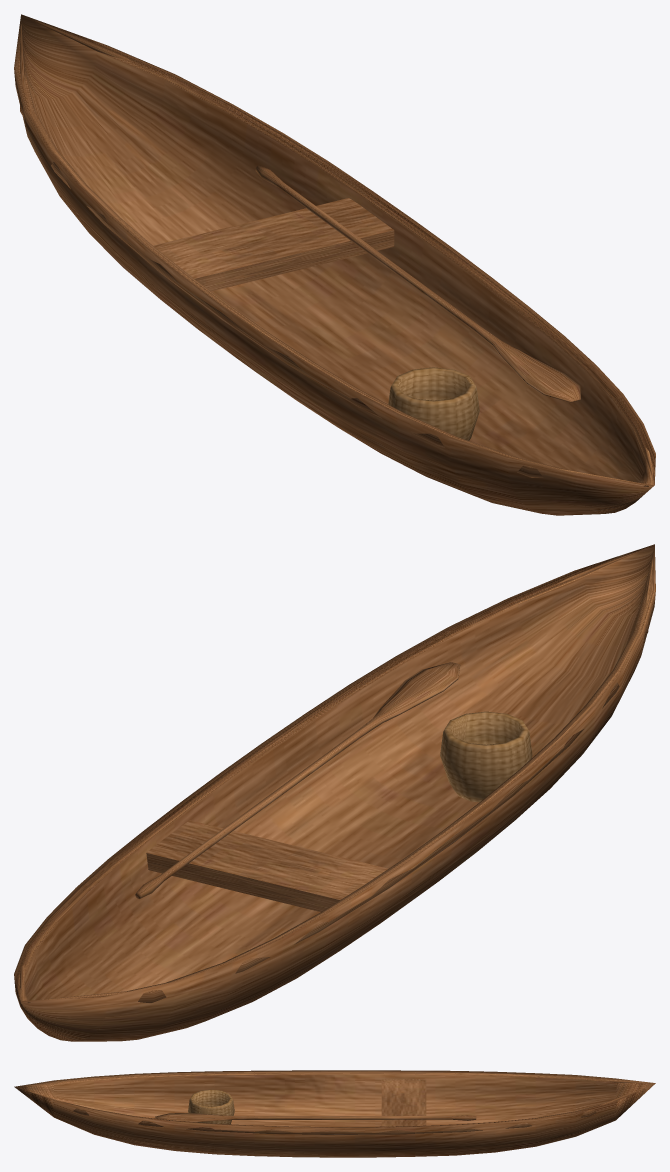
Rendered from MONTRA-ayutthaya-dugout-LOD1.glb.
3 renders of one model, top to bottom at view 1: azimuth 30°, elevation 25°; view 2: azimuth 150°, elevation 25°; view 3: azimuth 270°, elevation 25°, orthographic. The views are drawn at different scales.
Parts seen in each view (by area): view 1: Dugout_Hull, Rowers_Thwart, Single_Blade_Paddle, Woven_Fishing_Basket, Gunwales; view 2: Dugout_Hull, Rowers_Thwart, Woven_Fishing_Basket, Single_Blade_Paddle, Gunwales; view 3: Dugout_Hull, Rowers_Thwart, Gunwales, Single_Blade_Paddle, Woven_Fishing_Basket.
Part boxes in pixels (x1,y1,x2,y2): Dugout_Hull: [14, 14, 655, 515]; Rowers_Thwart: [153, 198, 394, 291]; Single_Blade_Paddle: [255, 165, 580, 402]; Woven_Fishing_Basket: [388, 367, 479, 440]; Gunwales: [20, 18, 653, 486]; Dugout_Hull: [14, 544, 655, 1041]; Rowers_Thwart: [146, 820, 388, 911]; Woven_Fishing_Basket: [440, 711, 532, 802]; Single_Blade_Paddle: [135, 662, 460, 898]; Gunwales: [20, 548, 653, 1003]; Dugout_Hull: [14, 1070, 655, 1157]; Rowers_Thwart: [381, 1079, 426, 1126]; Gunwales: [17, 1076, 652, 1134]; Single_Blade_Paddle: [155, 1113, 476, 1122]; Woven_Fishing_Basket: [188, 1089, 234, 1124].
Bounding box in the file's own units: 0.85 × 0.45 × 4.
2 materials, 2 textured.
